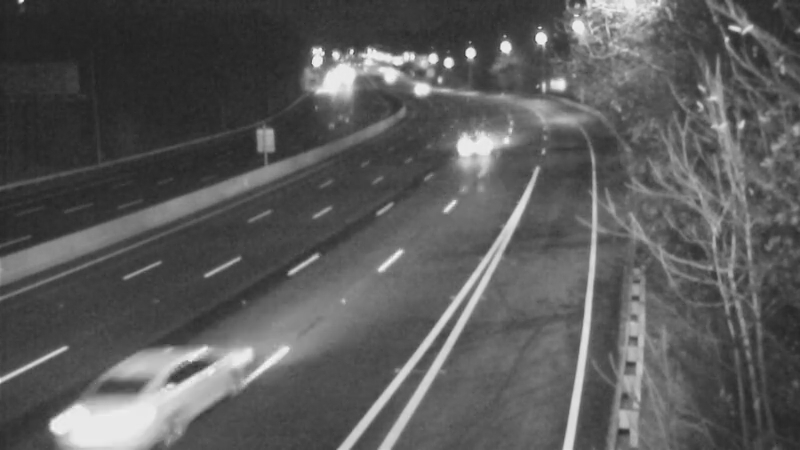vehicle: (108, 326, 218, 436), (391, 65, 441, 115), (448, 117, 498, 167)
